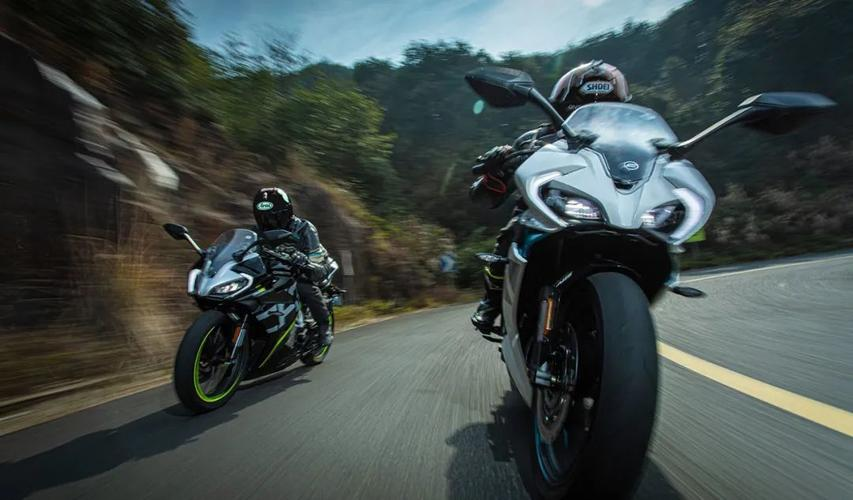摩托车: (477, 54, 834, 493), (164, 192, 354, 422)
